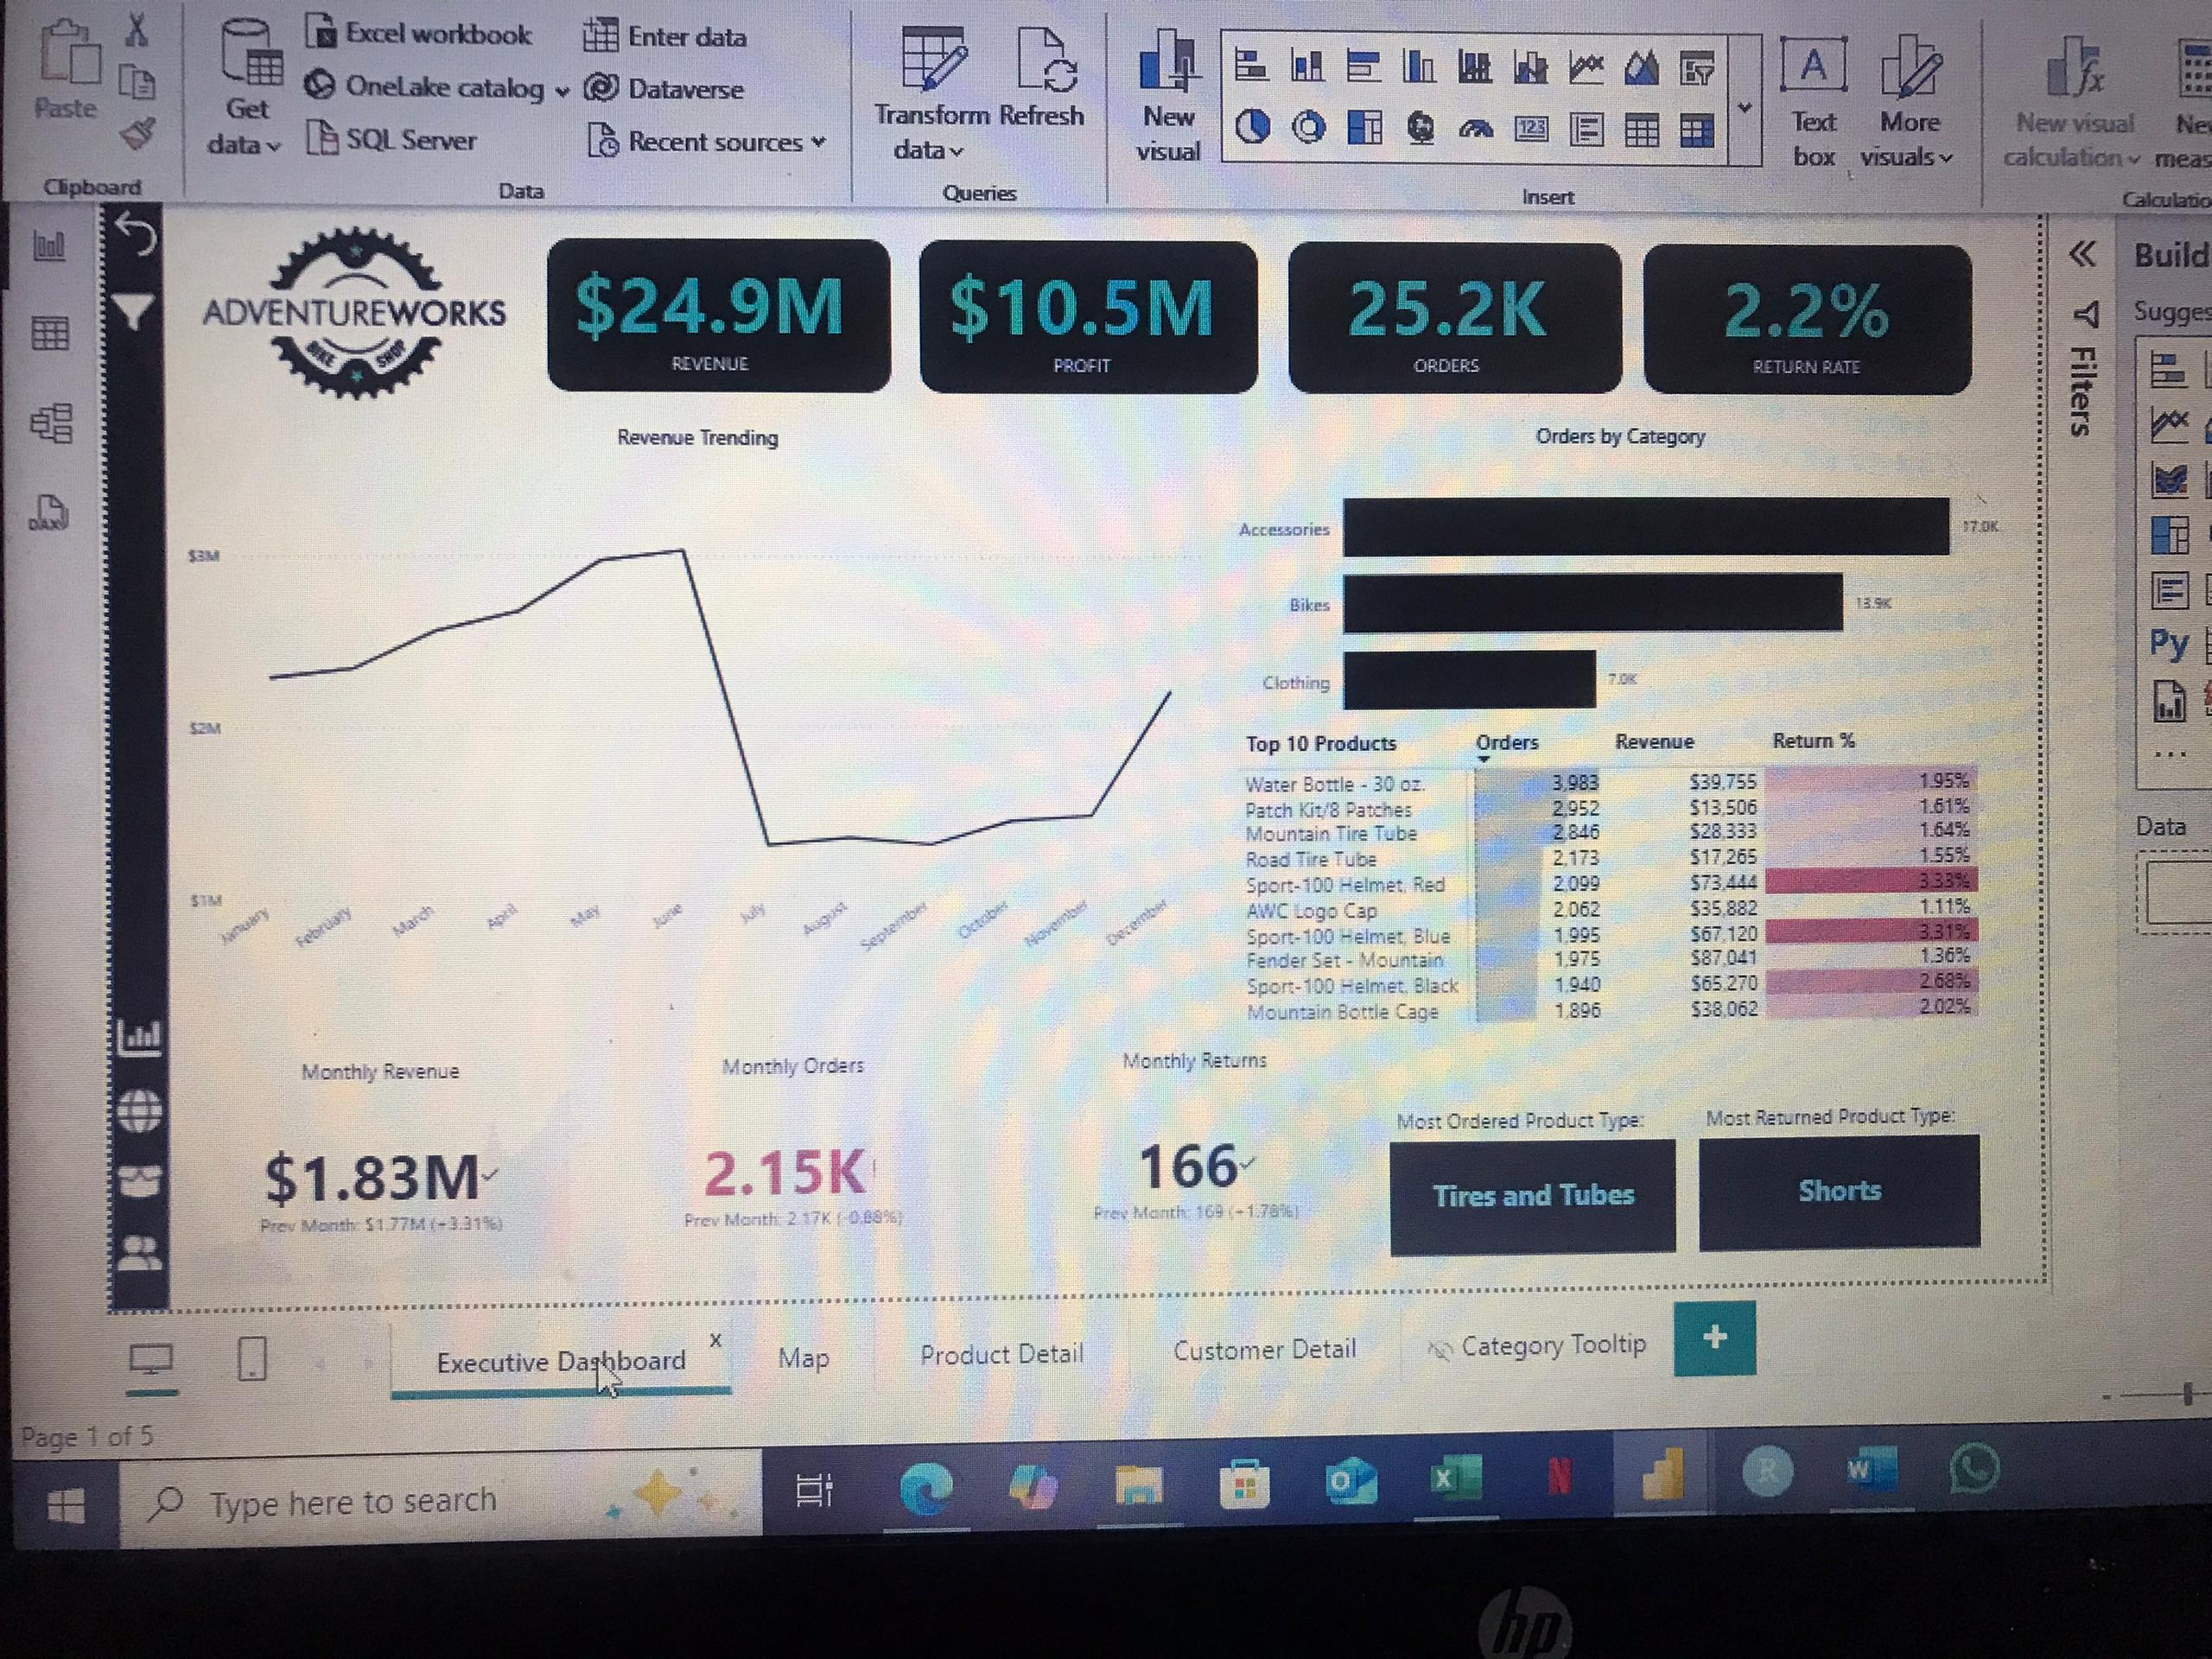

Layout of this report page (visuals, bound fields, positions):
{"tool":"powerbi","page":{"name":"Executive Dashboard","canvas":[1280,720],"ordinal":0},"visuals":[{"type":"image","title":"AW Logo","box":[36,0,247.7,142.6],"z":0},{"type":"card","fields":{"Values":["Measure Table.Total Revenue"]},"box":[250.6,21.6,277.9,97.9],"z":0,"group":"g2"},{"type":"group","id":"g1","title":"KPI Backgrounds","box":[283.7,21.6,951.8,100.8],"z":0,"group":"g3"},{"type":"shape","box":[527.8,21.6,224.6,100.8],"z":0,"group":"g1"},{"type":"actionButton","box":[0,524.2,36,38.9],"z":0,"group":"g4"},{"type":"shape","title":"Left Nav Background","box":[0,0,36.7,720],"z":1000},{"type":"group","id":"g2","title":"KPI Values","box":[250.6,21.6,1010.9,97.9],"z":1000,"group":"g3"},{"type":"shape","box":[283.7,21.6,224.6,100.8],"z":1000,"group":"g1"},{"type":"card","fields":{"Values":["Measure Table.Total Profit"]},"box":[494.9,21.6,277.9,97.9],"z":1000,"group":"g2"},{"type":"actionButton","box":[0,617.8,36,38.9],"z":1000,"group":"g4"},{"type":"group","id":"g3","title":"KPI's","box":[250.6,21.6,1010.9,100.8],"z":2000},{"type":"card","fields":{"Values":["Measure Table.Total Order"]},"box":[739.2,21.6,277.9,97.9],"z":2000,"group":"g2"},{"type":"shape","box":[771.9,21.6,224.6,100.8],"z":2000,"group":"g1"},{"type":"actionButton","box":[0,663.9,36,38.9],"z":2000,"group":"g4"},{"type":"card","fields":{"Values":["Measure Table.Return Rate"]},"box":[983.6,21.6,277.9,97.9],"z":3000,"group":"g2"},{"type":"shape","box":[1010.9,21.6,224.6,100.8],"z":3000,"group":"g1"},{"type":"lineChart","title":" Revenue Trending","fields":{"Y":["Measure Table.Total Revenue"],"Category":["Calendar Lookup.Year","Calendar Lookup.Start of Quarter.Variation.Date Hierarchy.Year","Calendar Lookup.Start of Quarter.Variation.Date Hierarchy.Quarter","Calendar Lookup.Start of Quarter.Variation.Date Hierarchy.Month","Calendar Lookup.Start of Quarter.Variation.Date Hierarchy.Day","Calendar Lookup.Start of Month.Variation.Date Hierarchy.Year","Calendar Lookup.Start of Month.Variation.Date Hierarchy.Quarter","Calendar Lookup.Start of Month.Variation.Date Hierarchy.Month","Calendar Lookup.Start of Month.Variation.Date Hierarchy.Day"]},"box":[44.6,142.6,673.9,362.9],"z":3000},{"type":"actionButton","box":[0,571,36,38.9],"z":3000,"group":"g4"},{"type":"kpi","title":"Monthly Revenue","fields":{"Indicator":["Measure Table.Total Revenue"],"TrendLine":["Calendar Lookup.Start of Month"],"Goal":["Measure Table.Previous Month Revenue"]},"box":[44.6,557.3,256.3,152.6],"z":4000},{"type":"kpi","title":"Monthly Orders","fields":{"TrendLine":["Calendar Lookup.Start of Month"],"Indicator":["Measure Table.Total Order"],"Goal":["Measure Table.Previous Month Orders"]},"box":[311.8,557.3,256.3,152.6],"z":5000},{"type":"kpi","title":"Monthly Returns","fields":{"TrendLine":["Calendar Lookup.Start of Month"],"Indicator":["Measure Table.Total Returns"],"Goal":["Measure Table.Previous Month Returns"]},"box":[578.9,557.3,256.3,152.6],"z":6000},{"type":"clusteredBarChart","title":"Orders by Category","fields":{"Category":["Product Categories Lookup.CategoryName"],"Y":["Measure Table.Total Order"]},"box":[728.6,141.1,532.8,218.9],"z":7000},{"type":"pivotTable","fields":{"Rows":["Product Lookup.ProductName"],"Values":["Measure Table.Total Order","Measure Table.Total Revenue","Measure Table.Return Rate"]},"box":[733,341.3,528.5,216],"z":8000},{"type":"card","fields":{"Values":["Min(Product Subcategories Lookup.SubcategoryName)"]},"box":[836.5,621.5,193.2,75.6],"z":9000},{"type":"textbox","box":[836.5,594.6,235.2,26.9],"z":10000},{"type":"card","fields":{"Values":["Min(Product Subcategories Lookup.SubcategoryName)"]},"box":[1044.8,621.4,193.2,75.6],"z":11000},{"type":"textbox","box":[1044.8,594.6,235.2,26.9],"z":12000},{"type":"actionButton","box":[0,0,44.6,40.3],"z":13000},{"type":"group","id":"g4","title":"Navigation Buttons","box":[0,524.2,36,178.6],"z":14000},{"type":"actionButton","box":[0,51.8,36,40.3],"z":15000}]}

Visuals, with their boxes on the page's 1280x720 design canvas (x1, y1, x2, y2). These are canvas units, not pixel positions in the 2212x1659 screenshot, which may show the page scaled, cropped or inside an application window:
"AW Logo" image: bbox=[36, 0, 284, 143]
card - Measure Table.Total Revenue: bbox=[251, 22, 528, 120]
"KPI Backgrounds" group: bbox=[284, 22, 1236, 122]
shape: bbox=[528, 22, 752, 122]
actionButton: bbox=[0, 524, 36, 563]
"Left Nav Background" shape: bbox=[0, 0, 37, 720]
"KPI Values" group: bbox=[251, 22, 1262, 120]
shape: bbox=[284, 22, 508, 122]
card - Measure Table.Total Profit: bbox=[495, 22, 773, 120]
actionButton: bbox=[0, 618, 36, 657]
"KPI's" group: bbox=[251, 22, 1262, 122]
card - Measure Table.Total Order: bbox=[739, 22, 1017, 120]
shape: bbox=[772, 22, 996, 122]
actionButton: bbox=[0, 664, 36, 703]
card - Measure Table.Return Rate: bbox=[984, 22, 1262, 120]
shape: bbox=[1011, 22, 1236, 122]
" Revenue Trending" lineChart: bbox=[45, 143, 718, 506]
actionButton: bbox=[0, 571, 36, 610]
"Monthly Revenue" kpi: bbox=[45, 557, 301, 710]
"Monthly Orders" kpi: bbox=[312, 557, 568, 710]
"Monthly Returns" kpi: bbox=[579, 557, 835, 710]
"Orders by Category" clusteredBarChart: bbox=[729, 141, 1261, 360]
pivotTable - Product Lookup.ProductName x Measure Table.Total Order: bbox=[733, 341, 1262, 557]
card - Min(Product Subcategories Lookup.SubcategoryName): bbox=[836, 622, 1030, 697]
textbox: bbox=[836, 595, 1072, 622]
card - Min(Product Subcategories Lookup.SubcategoryName): bbox=[1045, 621, 1238, 697]
textbox: bbox=[1045, 595, 1280, 622]
actionButton: bbox=[0, 0, 45, 40]
"Navigation Buttons" group: bbox=[0, 524, 36, 703]
actionButton: bbox=[0, 52, 36, 92]
